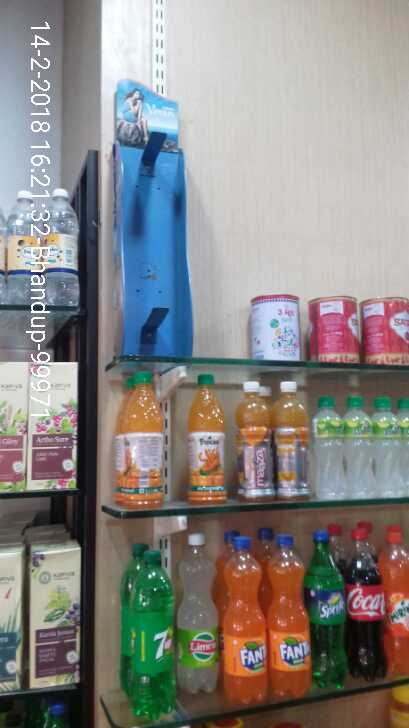reject: (137, 189, 231, 296)
